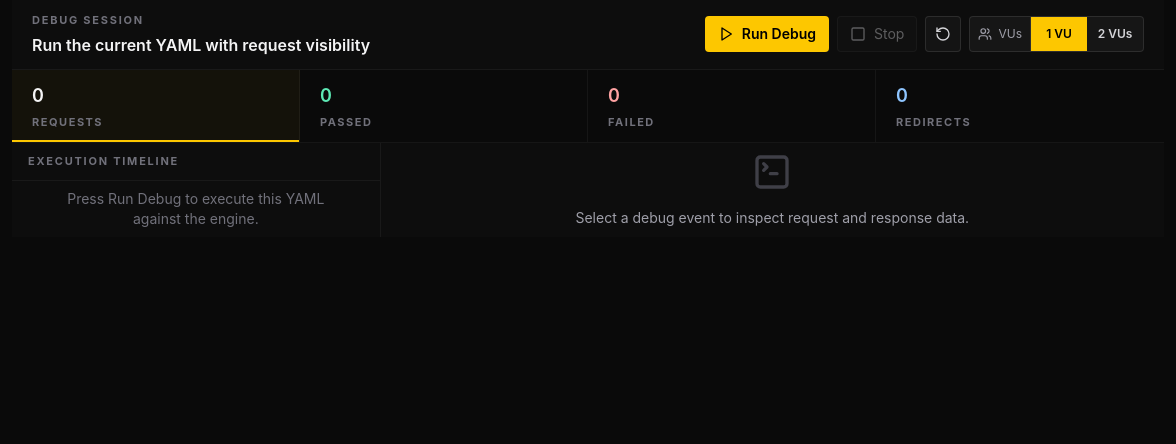
YAMLDebugSession tree selection sync › shows the recorded Tree request number for redirected debug events
Click the button "Run Debug". click: coordinates (767, 34)
box: [705,16,829,52]
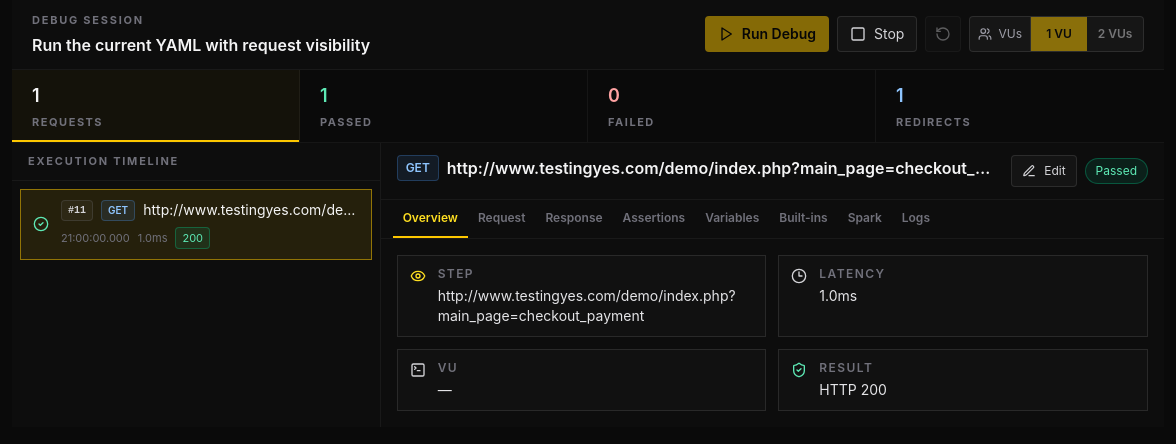
Expected: the text "#11" is shown, [61,200,93,220]
